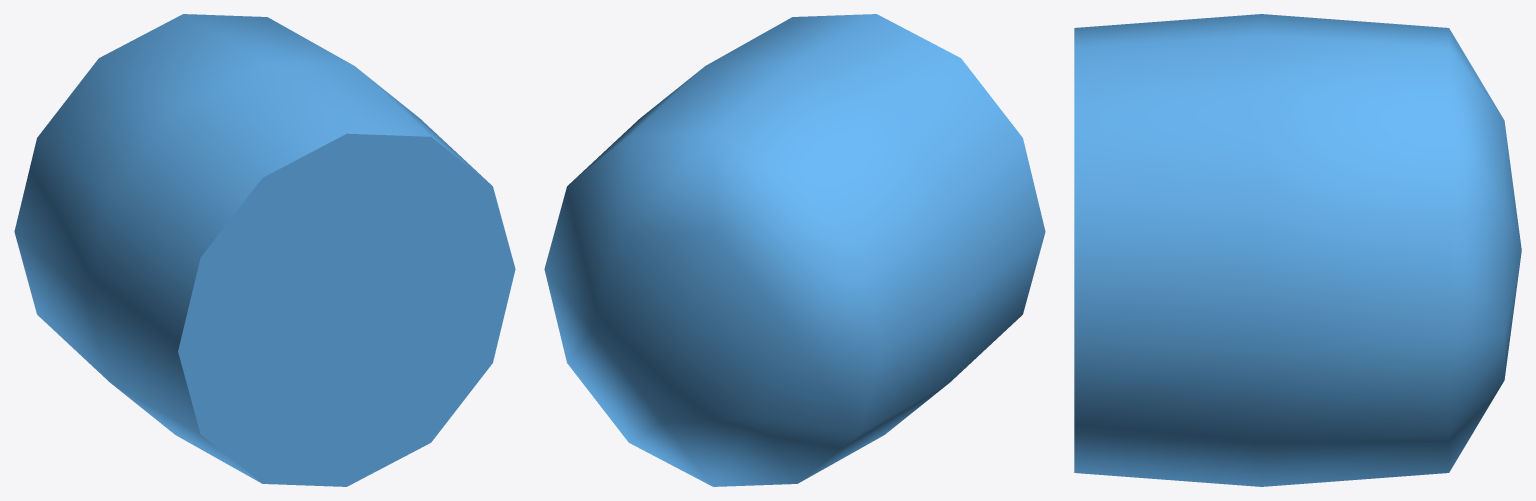
The model's file is pouffe.glb.
3 views of the same model, side by side, from view 1: azimuth 30°, elevation 25°; view 2: azimuth 150°, elevation 25°; view 3: azimuth 270°, elevation 25° (orthographic). The views are drawn at different scales.
Visible parts, largest first — view 1: ottoman_011; view 2: ottoman_011; view 3: ottoman_011.
Part boxes in pixels (bbox=[...]): ottoman_011: bbox=[14, 14, 515, 486]; ottoman_011: bbox=[544, 14, 1045, 486]; ottoman_011: bbox=[1074, 14, 1521, 486].
Size of the model in its own units: 0.5769 by 0.5769 by 0.5439.
1 material, 1 textured.
